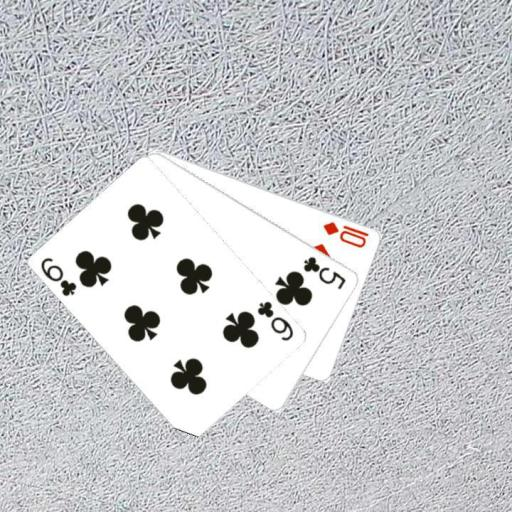10D: (320, 218, 370, 250)
5C: (300, 252, 348, 291)
6C: (255, 297, 296, 343), (38, 254, 79, 298)
